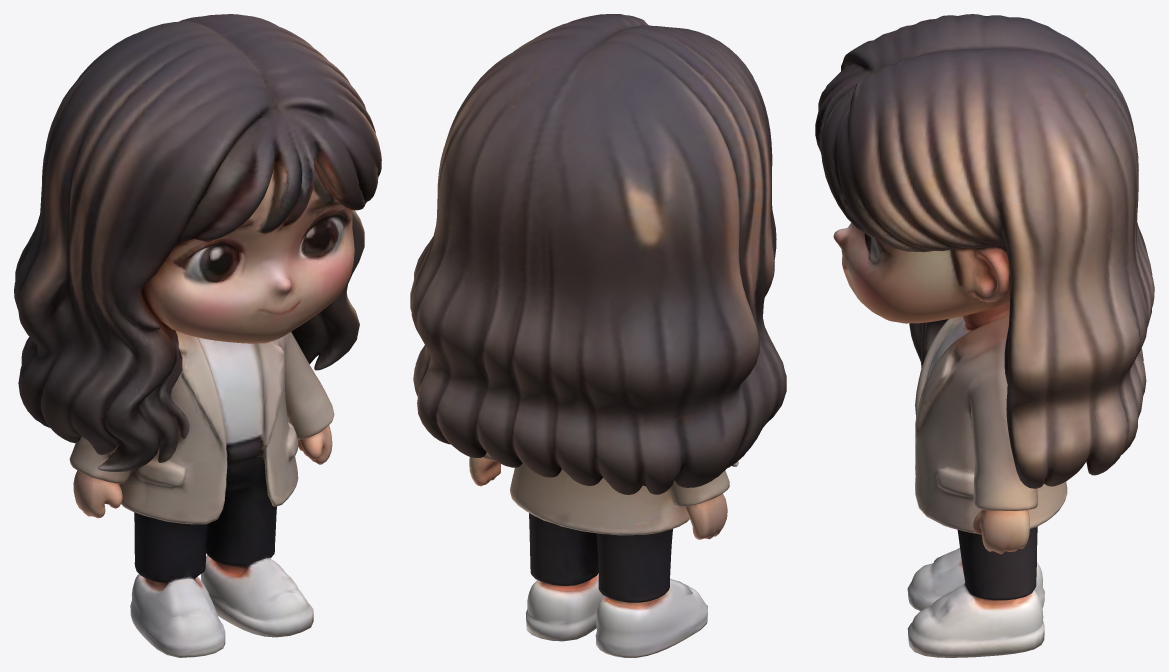
Rendered from jumin-npc.glb.
The picture shows the model from 3 angles, left to right: view 1: azimuth 30°, elevation 25°; view 2: azimuth 150°, elevation 25°; view 3: azimuth 270°, elevation 25°; orthographic projection.
Parts seen in each view (by area): view 1: model; view 2: model; view 3: model.
Part boxes in pixels (left/top/right/bottom): model: left=14, top=14, right=381, bottom=657; model: left=410, top=14, right=786, bottom=657; model: left=815, top=14, right=1154, bottom=657.
Bounding box in the file's own units: 1.03 × 1.71 × 0.8911.
Materials: 1 (1 with a texture image).
